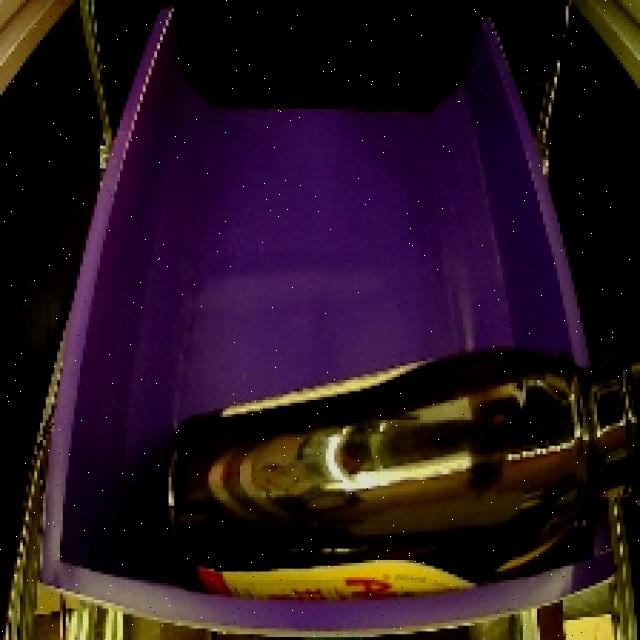plastic: (148, 323, 640, 614)
